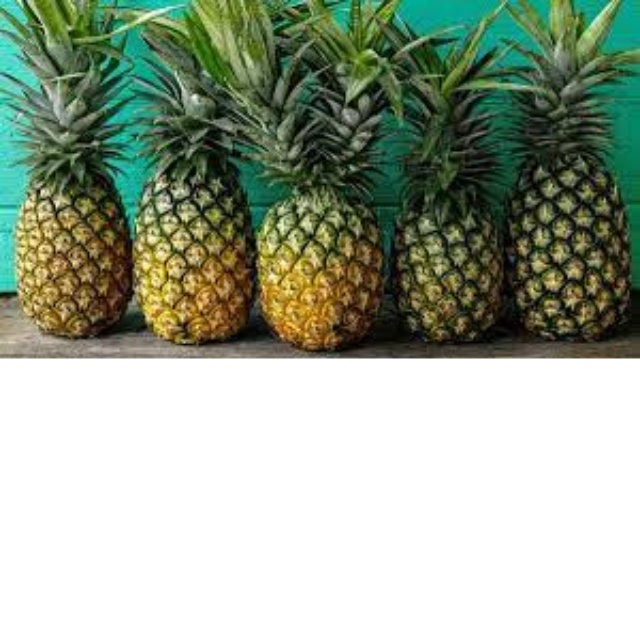thom: (492, 119, 636, 337), (125, 122, 260, 348), (251, 140, 392, 349), (5, 134, 133, 344), (378, 162, 507, 335)
